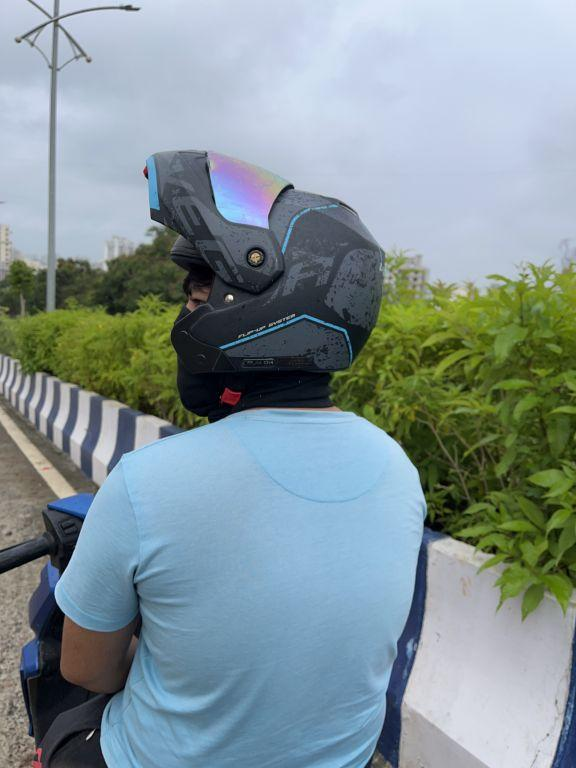helmet: (132, 135, 394, 403)
